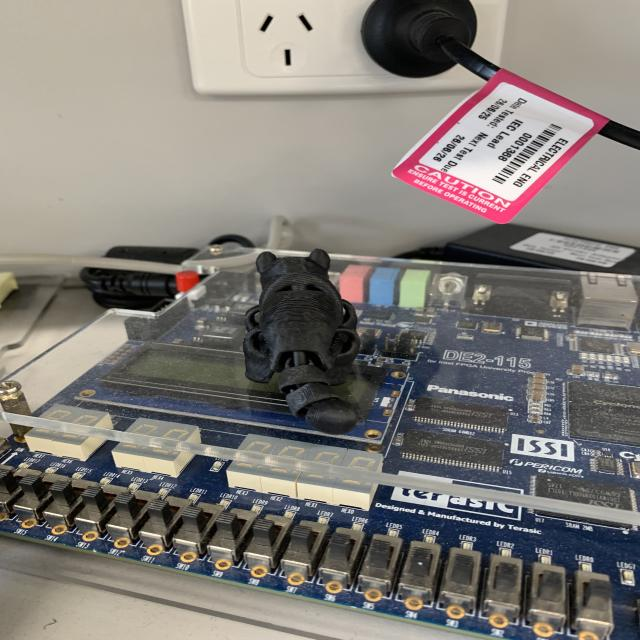tassie devil: (234, 240, 377, 443)
